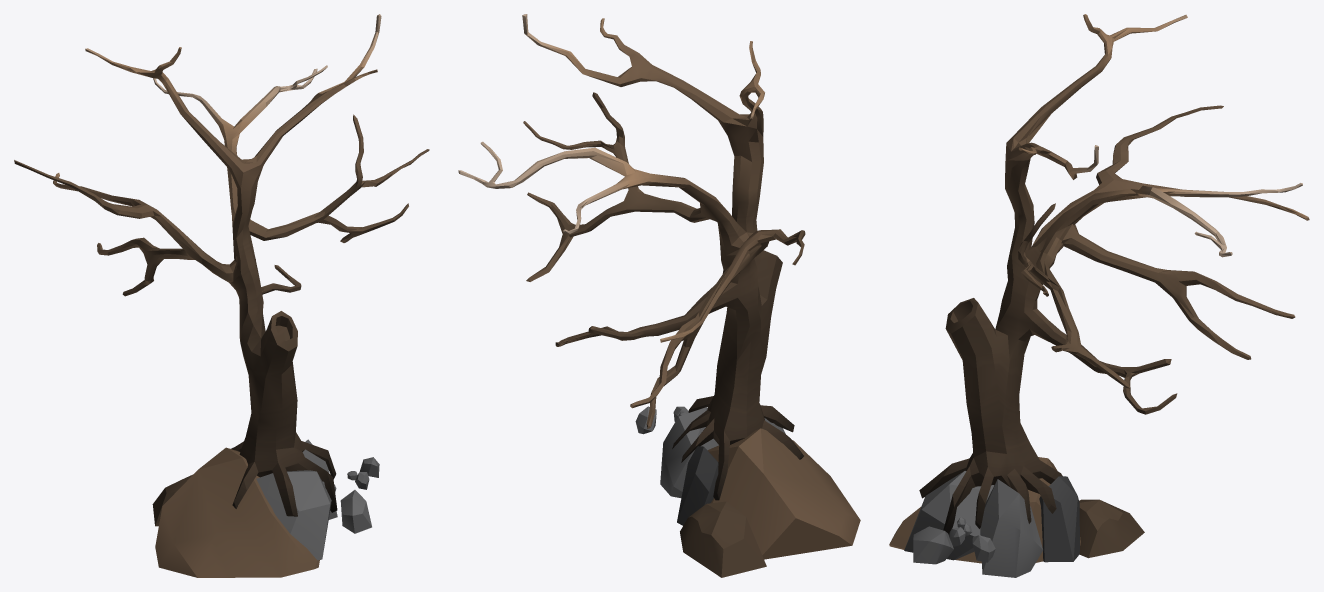
Rendered from ea03_environment_nature_tree_1b_pre_2_lev2.glb.
3 renders of one model, left to right at view 1: azimuth 30°, elevation 25°; view 2: azimuth 150°, elevation 25°; view 3: azimuth 270°, elevation 25°, orthographic. The views are drawn at different scales.
Parts seen in each view (by area): view 1: ea03_environment_nature_tree_1b_pre_2_lev2; view 2: ea03_environment_nature_tree_1b_pre_2_lev2; view 3: ea03_environment_nature_tree_1b_pre_2_lev2.
Boxes of the visible parts, x1,y1,x2,y2 form: ea03_environment_nature_tree_1b_pre_2_lev2: (14, 14, 429, 577); ea03_environment_nature_tree_1b_pre_2_lev2: (458, 14, 860, 577); ea03_environment_nature_tree_1b_pre_2_lev2: (889, 14, 1309, 577).
Size of the model in its own units: 19.44 by 26.72 by 19.55.
1 material, 1 textured.
